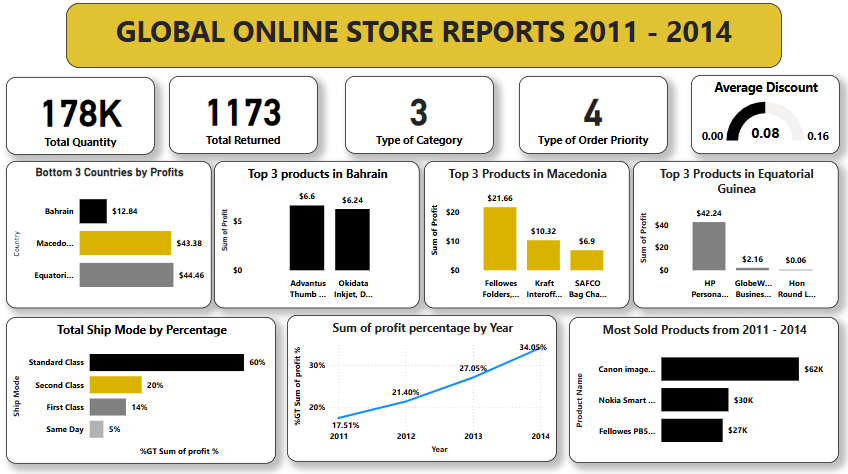

The page's visual inventory and layout, read from the dashboard file:
{"tool":"powerbi","page":{"name":"Page 2","canvas":[1280,720],"ordinal":1},"visuals":[{"type":"textbox","box":[107.2,13.4,1068.7,96.7],"z":0},{"type":"card","fields":{"Values":["Sum(Order.Quantity)"]},"box":[17.9,123.9,222,116],"z":1000},{"type":"card","fields":{"Values":["CountNonNull(Returned.Returned)"]},"box":[261.5,122.5,221.6,115.6],"z":2000},{"type":"card","fields":{"Values":["Count(Order.Category)"]},"box":[524.4,122.5,221.6,115.6],"z":3000},{"type":"card","fields":{"Values":["Count(Order.Order Priority)"]},"box":[784.5,122.5,221.6,115.6],"z":4000},{"type":"gauge","fields":{"Y":["Order.AVG DIC"]},"box":[1040.4,120.6,221.8,117.6],"z":5000},{"type":"clusteredBarChart","title":"Bottom 3 Countries by Profits","fields":{"Category":["Order.Country"],"Y":["Sum(Order.Profit)"]},"box":[18.6,248.8,307.5,220.2],"z":6000},{"type":"clusteredColumnChart","title":"Top 3 products in Bahrain","fields":{"Category":["Order.Product Name"],"Y":["Sum(Order.Profit)"]},"box":[328.9,248.8,307.5,220.2],"z":7000},{"type":"clusteredColumnChart","title":"Top 3 Products in Macedonia","fields":{"Category":["Order.Product Name"],"Y":["Sum(Order.Profit)"]},"box":[642.1,248.8,307.5,220.2],"z":8000},{"type":"clusteredColumnChart","title":"Top 3 Products in Equatorial Guinea","fields":{"Category":["Order.Product Name"],"Y":["Sum(Order.Profit)"]},"box":[953.9,248.8,307.5,220.2],"z":9000},{"type":"clusteredBarChart","title":"Total Ship Mode by Percentage","fields":{"Category":["Order.Ship Mode"],"Y":["Sum(Order.profit %)"]},"box":[18.6,482,403.3,218.8],"z":10000},{"type":"lineChart","title":"Sum of profit percentage by Year","fields":{"Y":["Sum(Order.profit %)"],"Category":["Order.Order Date.Variation.Date Hierarchy.Year"]},"box":[437.6,479.1,403.3,218.8],"z":11000},{"type":"clusteredBarChart","title":"Most Sold Products from 2011 - 2014","fields":{"Category":["Order.Product Name"],"Y":["Sum(Order.Sales)"]},"box":[858.1,482,403.3,218],"z":12000}]}

Visuals, with their boxes in screenshot pixels (x1, y1, x2, y2), scaled from the page's 1280x720 canvas onto the 848x474 screenshot:
textbox: (x1=71, y1=9, x2=779, y2=72)
card - Sum(Order.Quantity): (x1=12, y1=82, x2=159, y2=158)
card - CountNonNull(Returned.Returned): (x1=173, y1=81, x2=320, y2=157)
card - Count(Order.Category): (x1=347, y1=81, x2=494, y2=157)
card - Count(Order.Order Priority): (x1=520, y1=81, x2=667, y2=157)
gauge - Order.AVG DIC: (x1=689, y1=79, x2=836, y2=157)
"Bottom 3 Countries by Profits" clusteredBarChart: (x1=12, y1=164, x2=216, y2=309)
"Top 3 products in Bahrain" clusteredColumnChart: (x1=218, y1=164, x2=422, y2=309)
"Top 3 Products in Macedonia" clusteredColumnChart: (x1=425, y1=164, x2=629, y2=309)
"Top 3 Products in Equatorial Guinea" clusteredColumnChart: (x1=632, y1=164, x2=836, y2=309)
"Total Ship Mode by Percentage" clusteredBarChart: (x1=12, y1=317, x2=280, y2=461)
"Sum of profit percentage by Year" lineChart: (x1=290, y1=315, x2=557, y2=459)
"Most Sold Products from 2011 - 2014" clusteredBarChart: (x1=568, y1=317, x2=836, y2=461)
